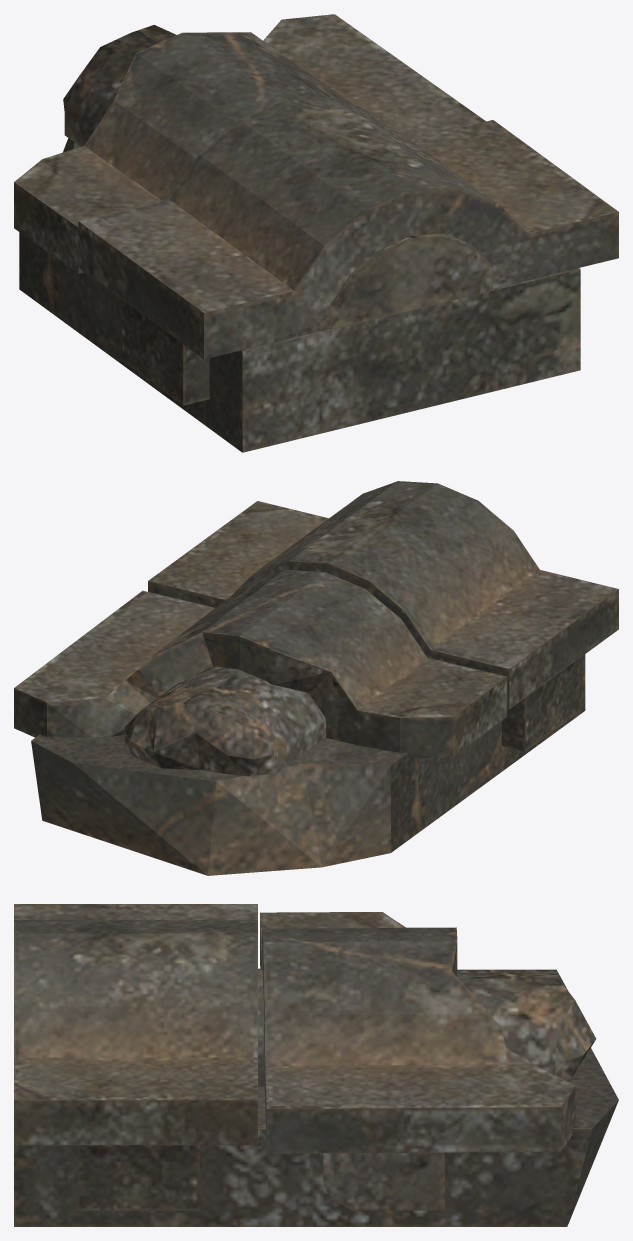
Rendered from bg_lut_lutomb_border02c_sm_old.FBX.
3 views of the same model, one above another, from view 1: azimuth 30°, elevation 25°; view 2: azimuth 150°, elevation 25°; view 3: azimuth 270°, elevation 25° (orthographic). The views are drawn at different scales.
Visible parts, largest first — view 1: bg_lut_lutomb_border02c_sm_old; view 2: bg_lut_lutomb_border02c_sm_old; view 3: bg_lut_lutomb_border02c_sm_old.
Part boxes in pixels (x1,y1,x2,y2): bg_lut_lutomb_border02c_sm_old: [14, 14, 618, 452]; bg_lut_lutomb_border02c_sm_old: [14, 481, 618, 875]; bg_lut_lutomb_border02c_sm_old: [14, 904, 618, 1226].
Size of the model in its own units: 68.97 by 34.76 by 89.44.
